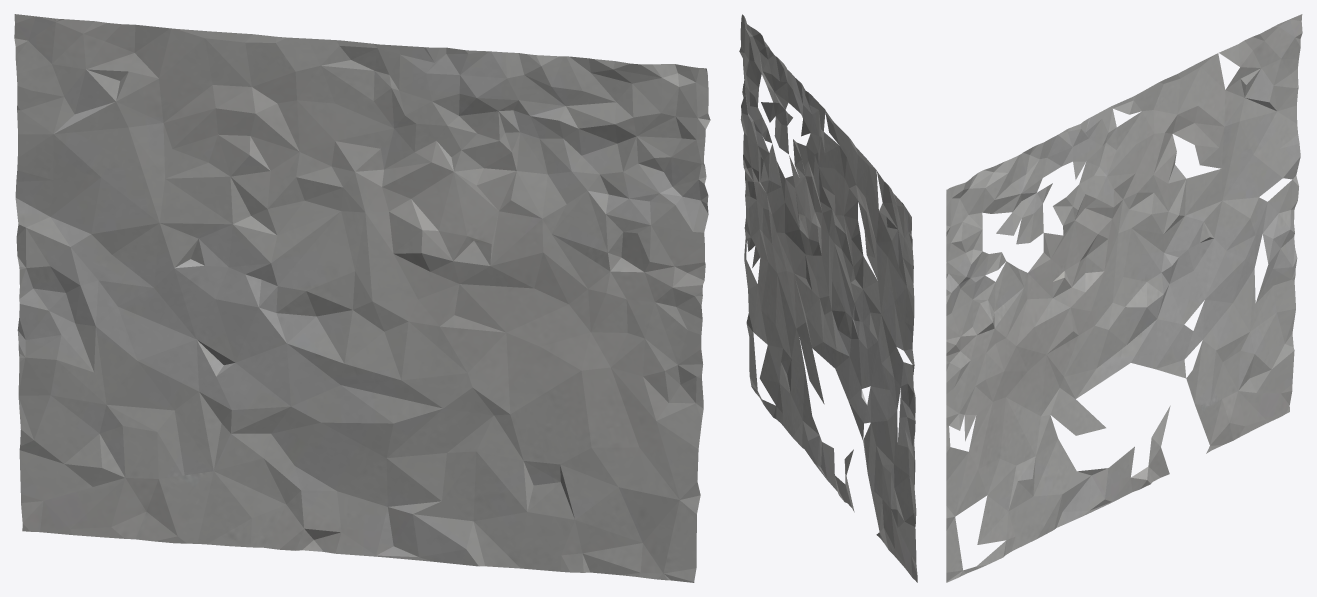
The picture shows the model from 3 angles, left to right: view 1: azimuth 30°, elevation 25°; view 2: azimuth 150°, elevation 25°; view 3: azimuth 270°, elevation 25°; orthographic projection. The views are drawn at different scales.
Size of the model in its own units: 0.8004 by 0.8374 by 0.6796.
Materials: 3 (3 with a texture image).
